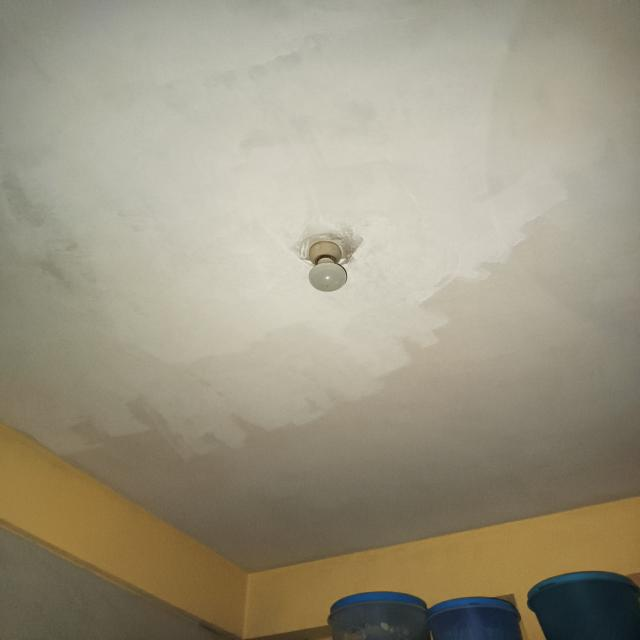bulb_off: (305, 240, 351, 292)
